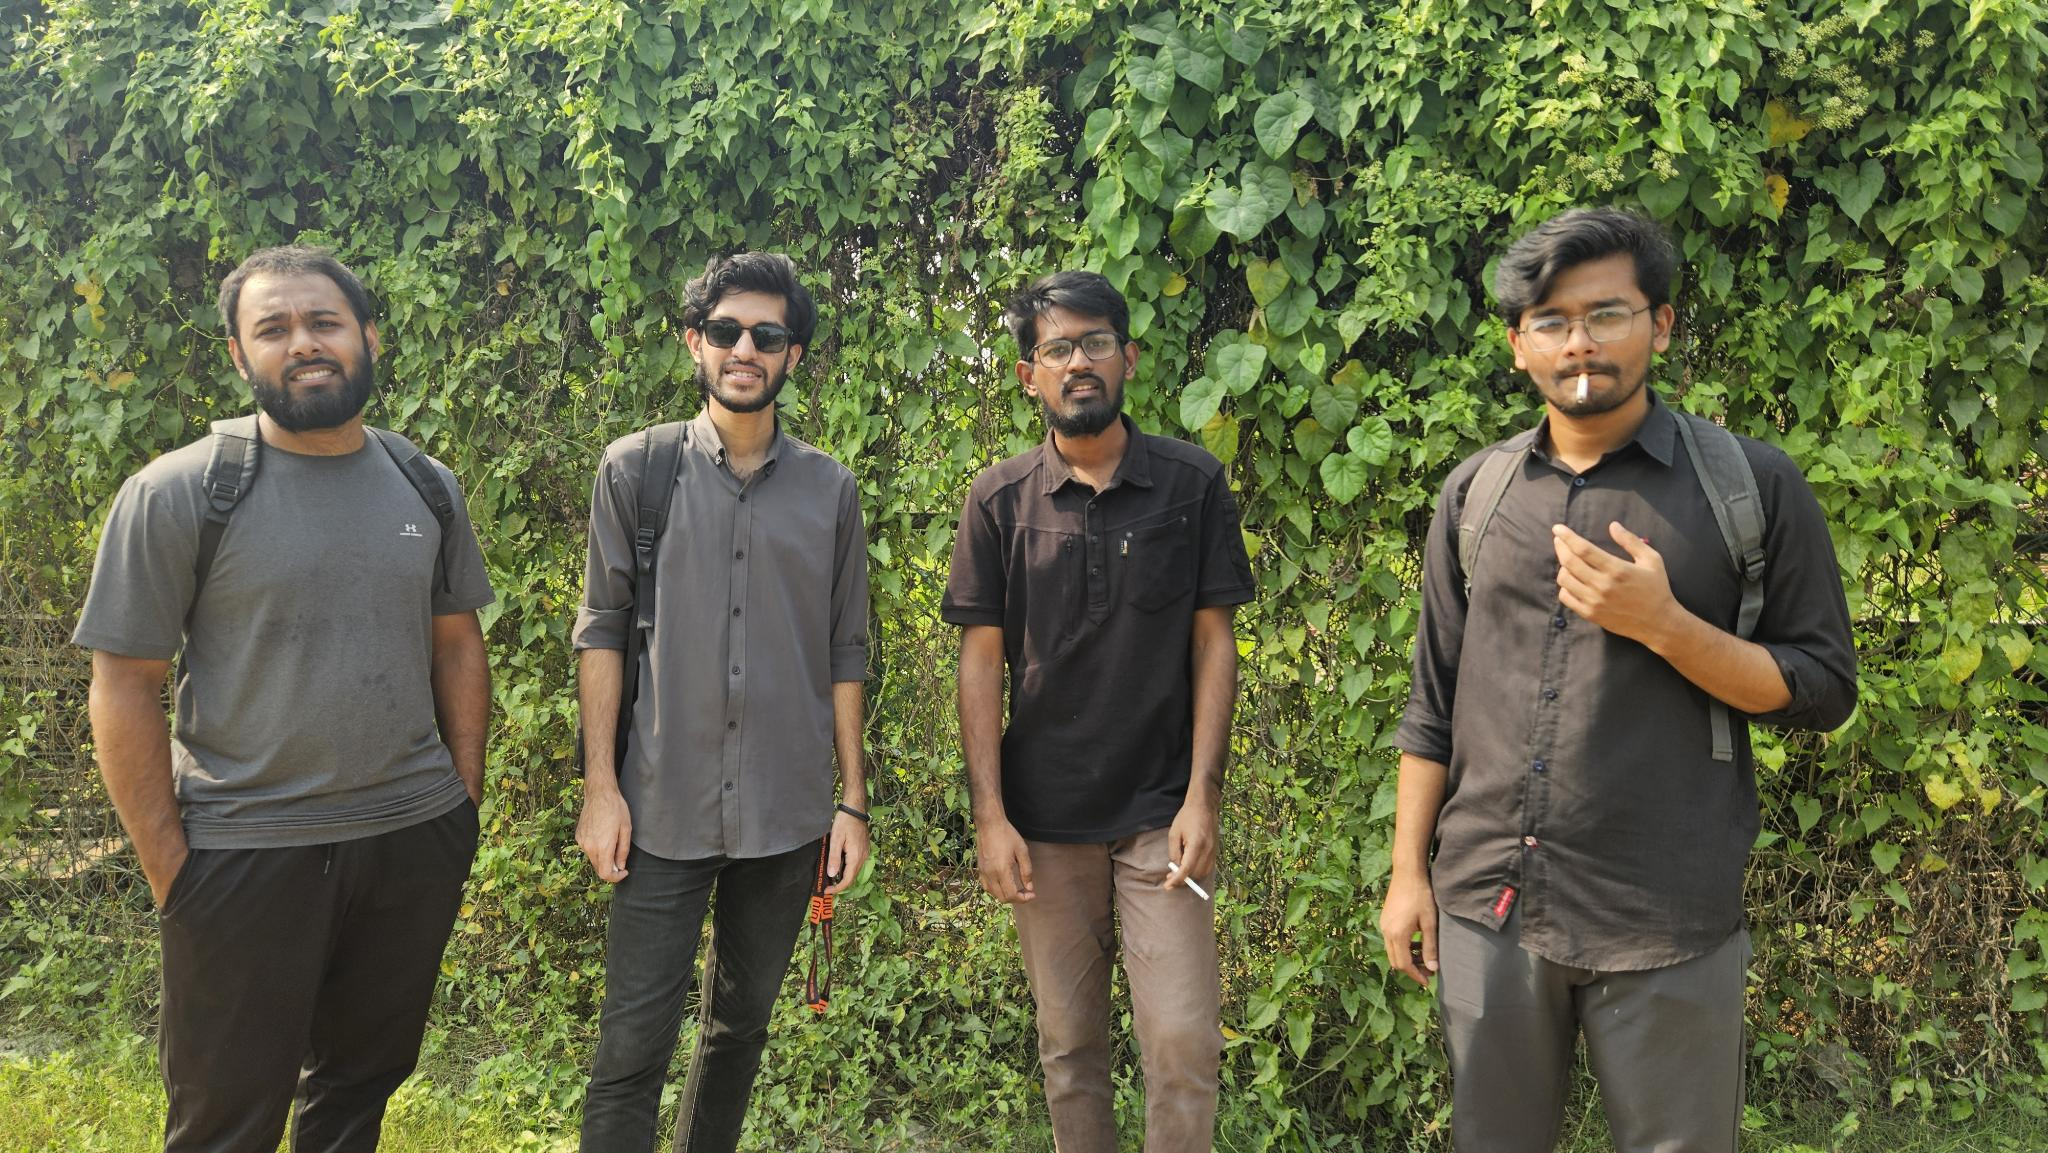cigarette: (1166, 861, 1211, 904), (1574, 370, 1589, 408)
nonSmoker: (69, 247, 497, 1153), (571, 252, 873, 1153)
smoker: (1378, 205, 1858, 1153), (940, 271, 1256, 1153)
